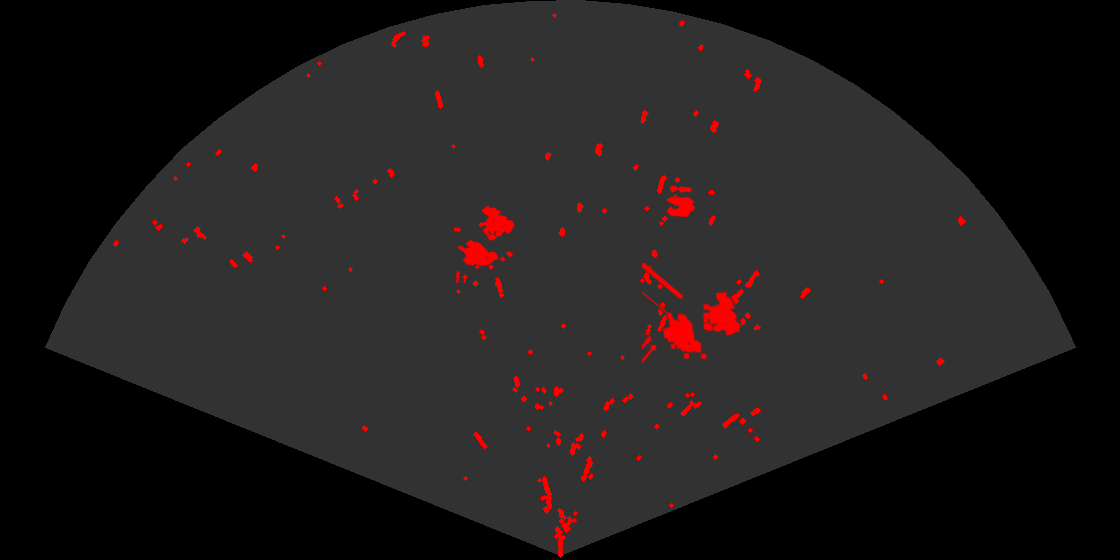ball: (665, 184, 696, 219)
cage: (642, 263, 742, 365), (454, 204, 516, 283)
